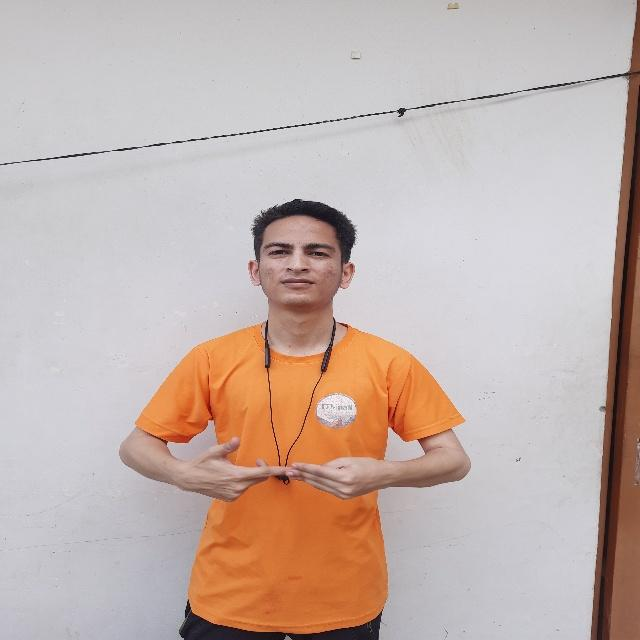Five Fathers: (172, 432, 400, 509)
